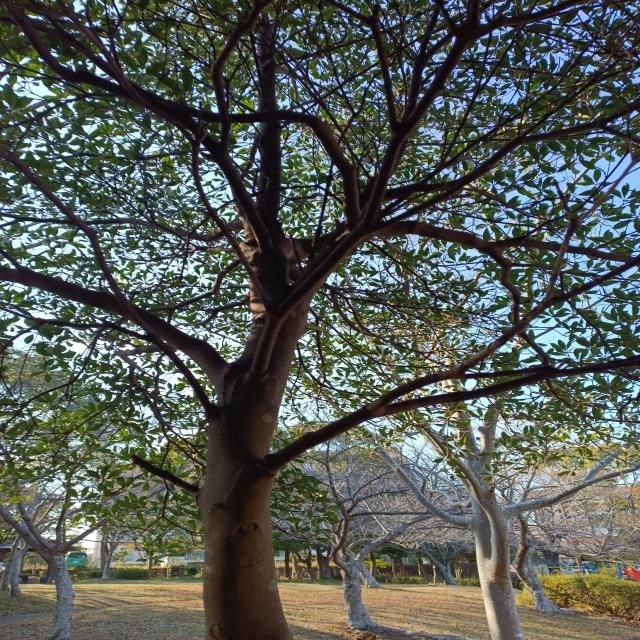Branch: (250, 97, 640, 378), (1, 0, 364, 230), (363, 0, 591, 221), (0, 267, 227, 392), (272, 370, 455, 472), (374, 221, 640, 266), (246, 18, 283, 242), (484, 252, 548, 367), (404, 33, 453, 113), (386, 180, 455, 201), (467, 0, 484, 22)
Twig: (1, 1, 275, 250), (62, 0, 271, 311), (3, 152, 214, 423), (449, 253, 640, 379), (211, 0, 273, 150), (327, 0, 399, 127), (376, 370, 562, 416), (129, 455, 199, 496), (419, 0, 444, 55), (434, 0, 458, 36)
